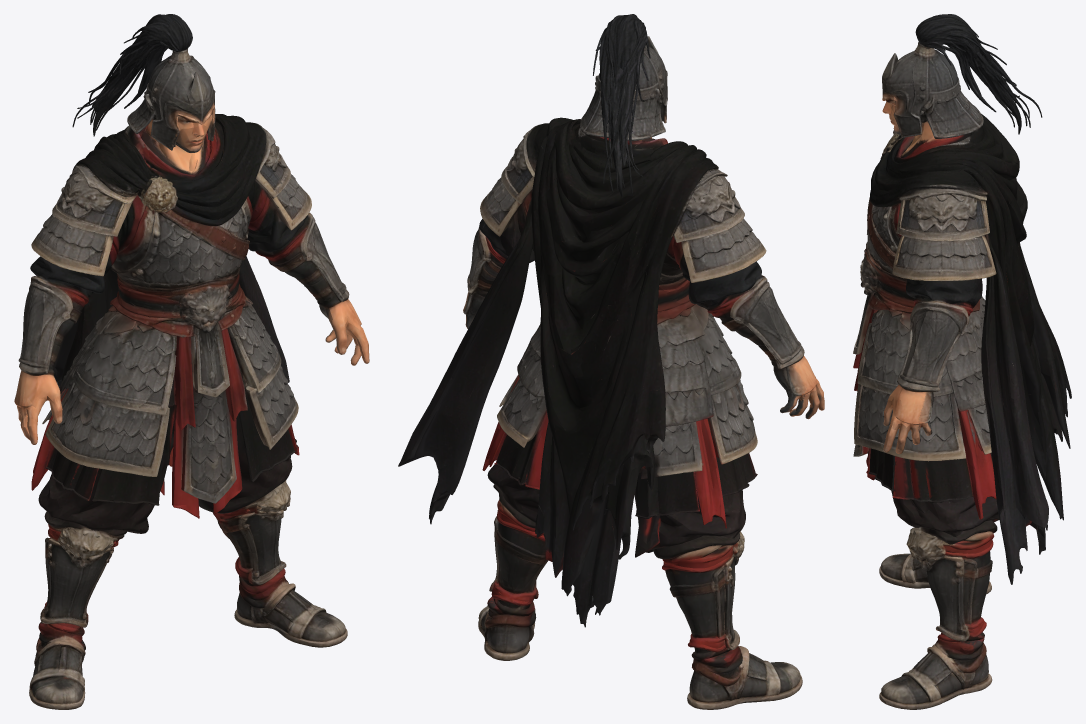
Rendered from glb.glb.
The picture shows the model from 3 angles, left to right: view 1: azimuth 30°, elevation 25°; view 2: azimuth 150°, elevation 25°; view 3: azimuth 270°, elevation 25°; orthographic projection. The views are drawn at different scales.
Size of the model in its own units: 1.06 by 1.9 by 0.6057.
Materials: 1 (1 with a texture image).
